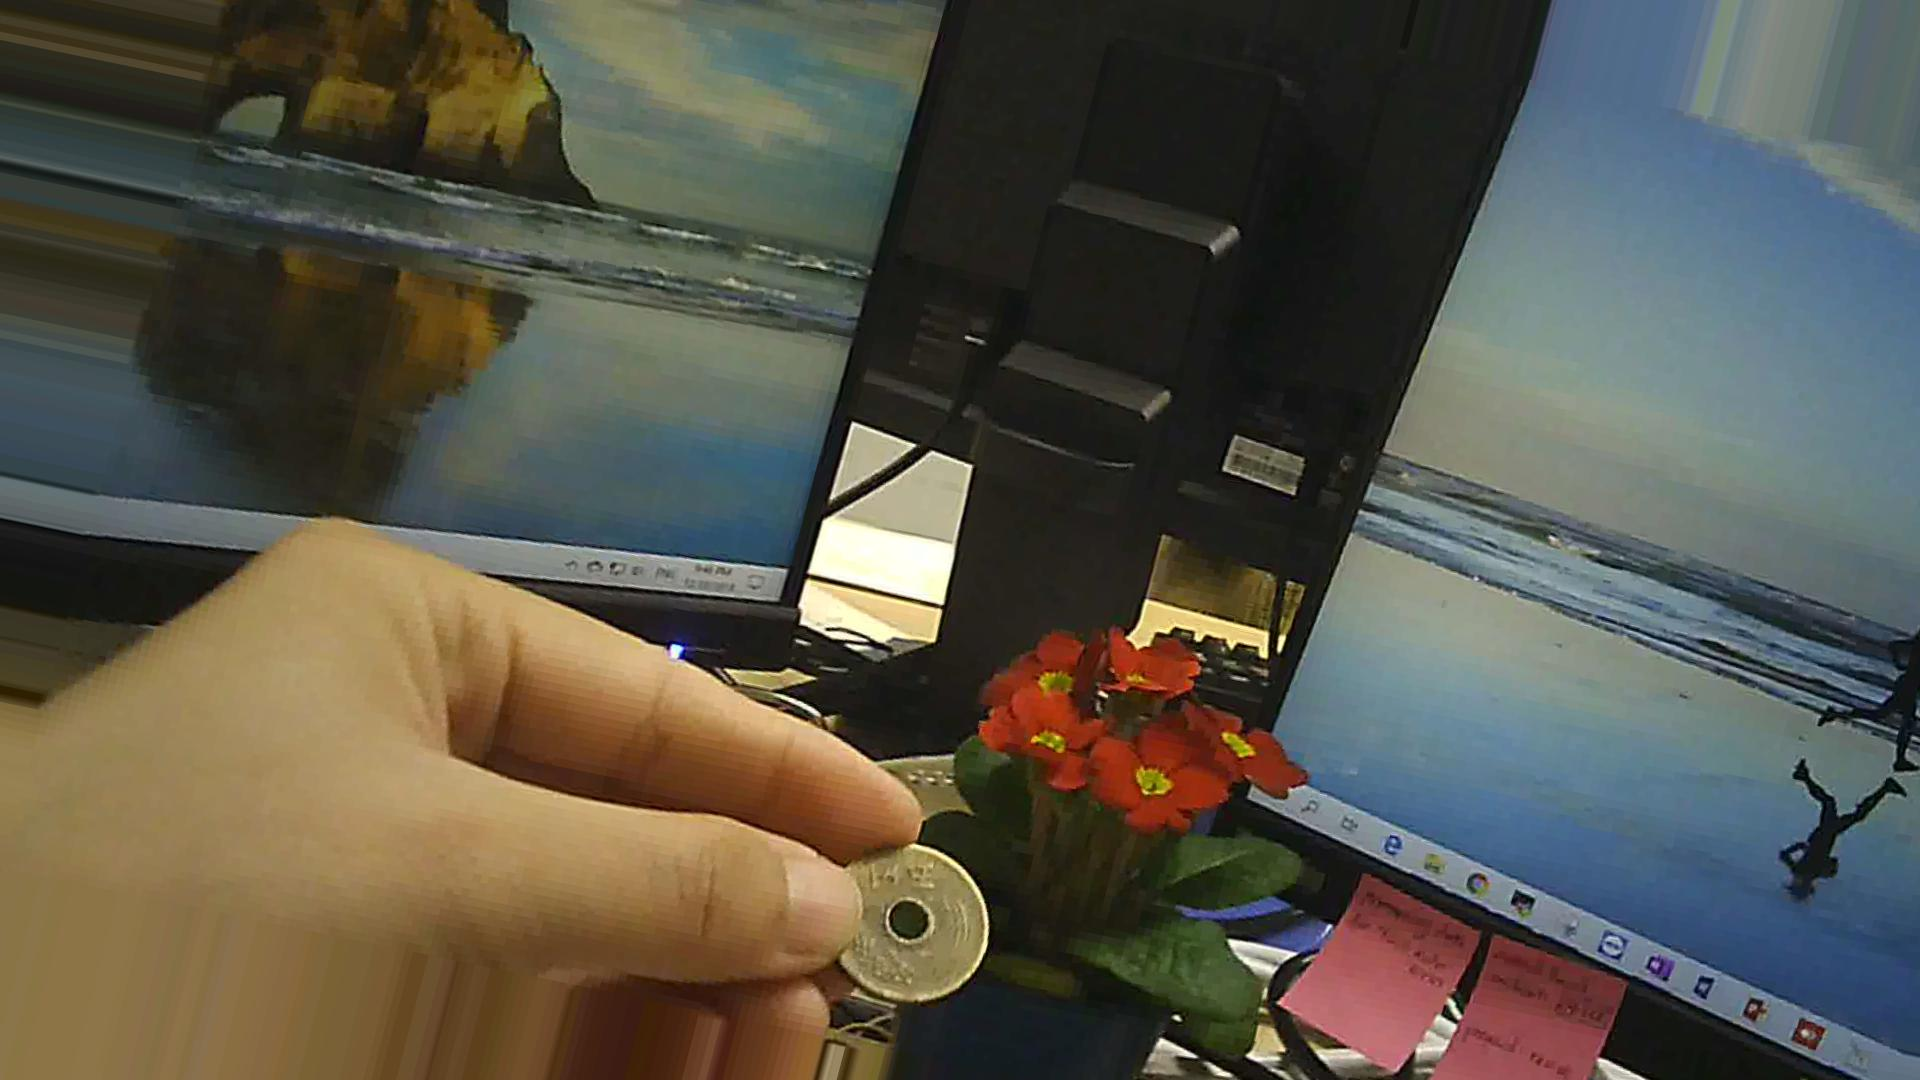5 Yen: (823, 822, 982, 1013)
